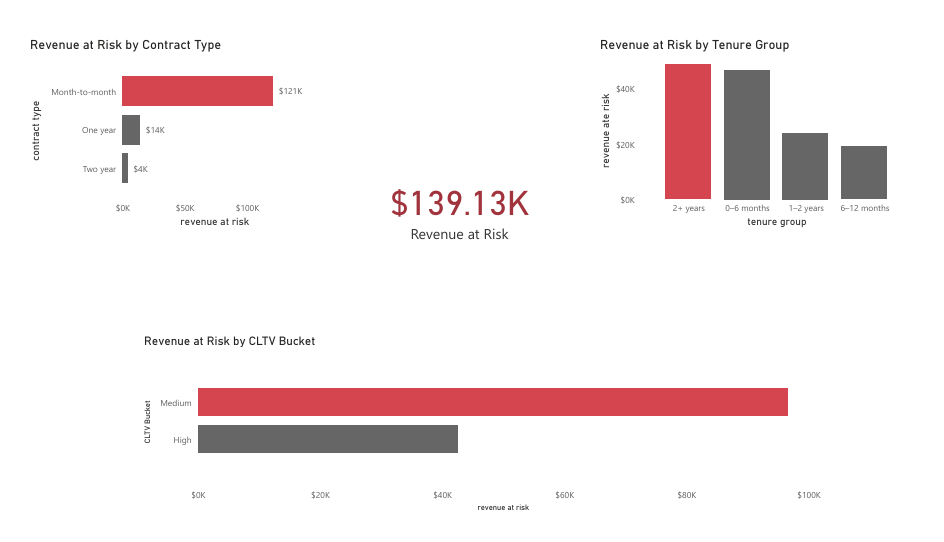

The page's visual inventory and layout, read from the dashboard file:
{"tool":"powerbi","page":{"name":"Revenue Leakage","canvas":[1280,720],"ordinal":2},"visuals":[{"type":"card","fields":{"Values":["analytics fact_customer_churn.Revenue at Risk"]},"box":[448,112,352,320],"z":0},{"type":"clusteredBarChart","title":"Revenue at Risk by Contract Type","fields":{"Category":["analytics dim_contract.contract_type"],"Y":["analytics fact_customer_churn.Revenue at Risk"]},"box":[16,32,416,272],"z":1000},{"type":"columnChart","fields":{"Category":["analytics dim_customer.Tenure Group"],"Y":["analytics fact_customer_churn.Revenue at Risk"]},"box":[816,32,448,272],"z":2000},{"type":"barChart","fields":{"Category":["analytics fact_customer_churn.CLTV Bucket"],"Y":["analytics fact_customer_churn.Revenue at Risk"]},"box":[176,448,960,256],"z":3000}]}

Visuals, with their boxes in screenshot pixels (x1, y1, x2, y2), scaled from the page's 1280x720 canvas onto the 944x542 screenshot:
card - analytics fact_customer_churn.Revenue at Risk: 330 84 590 325
"Revenue at Risk by Contract Type" clusteredBarChart: 12 24 319 229
columnChart - analytics dim_customer.Tenure Group x analytics fact_customer_churn.Revenue at Risk: 602 24 932 229
barChart - analytics fact_customer_churn.CLTV Bucket x analytics fact_customer_churn.Revenue at Risk: 130 337 838 530
